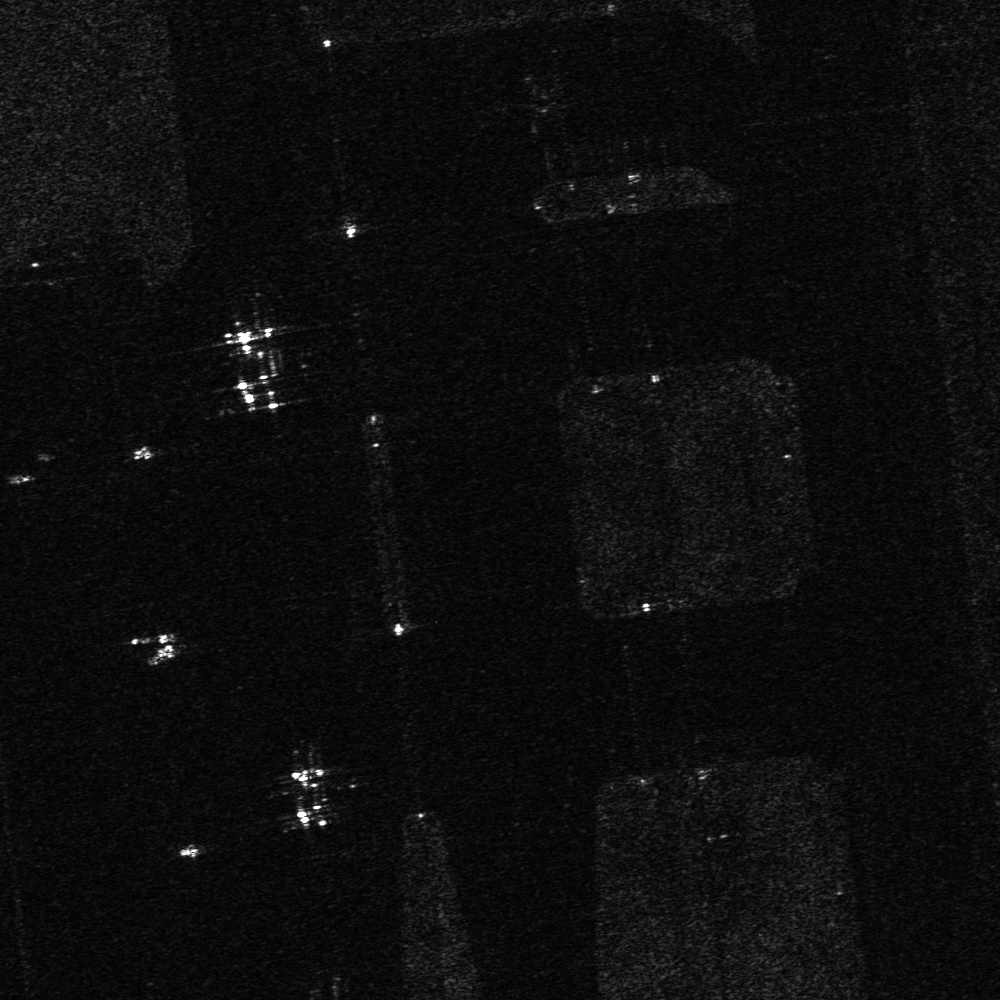Boeing787: (259, 736, 359, 834)
other: (180, 302, 315, 422)
